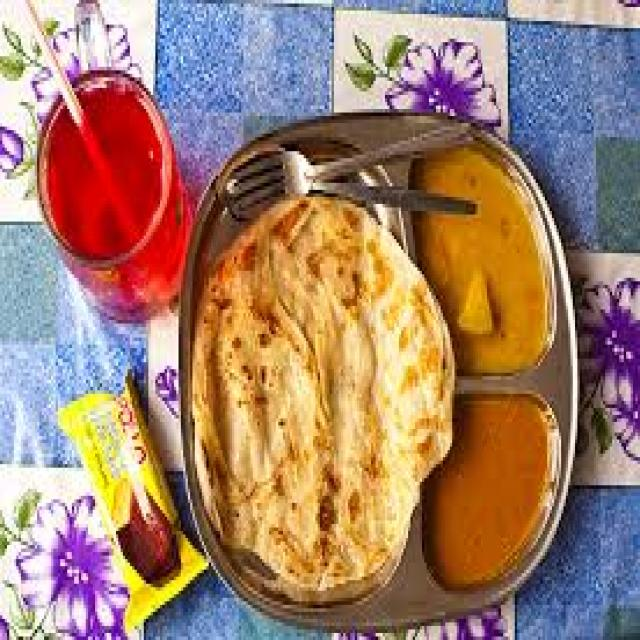organic waste: (190, 186, 450, 594), (410, 144, 552, 369), (426, 394, 550, 587), (49, 84, 162, 260), (454, 264, 492, 330)
